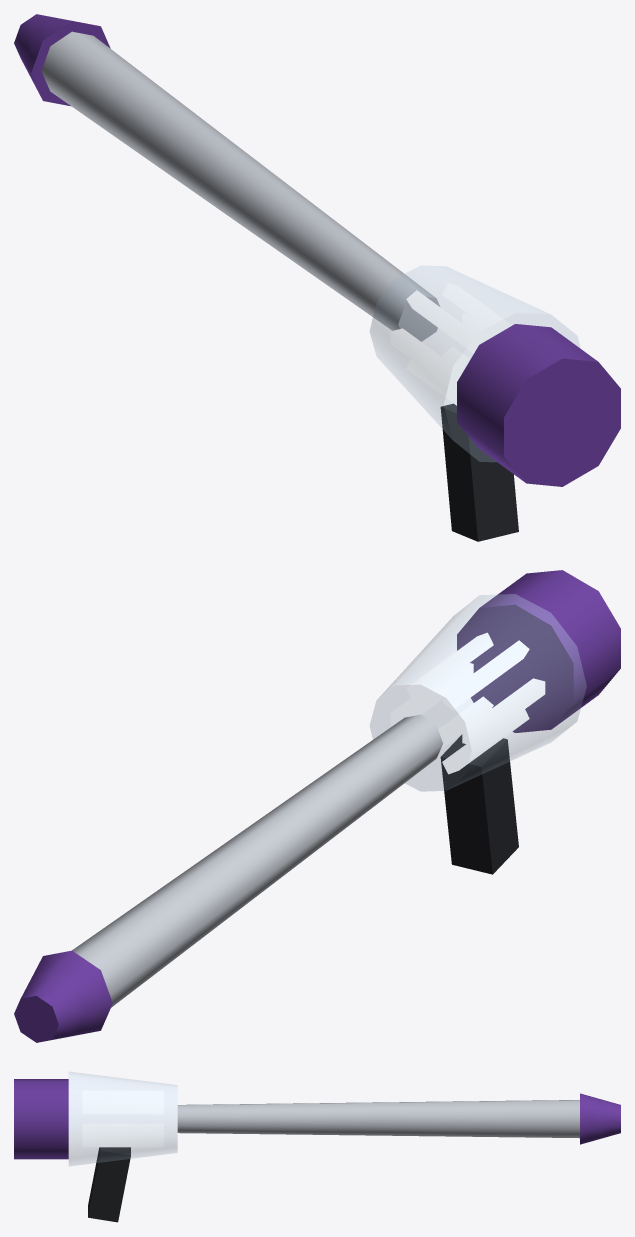
The model's file is tool_cyclone.glb.
3 renders of one model, top to bottom at view 1: azimuth 30°, elevation 25°; view 2: azimuth 150°, elevation 25°; view 3: azimuth 270°, elevation 25°, orthographic. The views are drawn at different scales.
Parts seen in each view (by area): view 1: _MeshInstance3D_1188, _MeshInstance3D_1180, _MeshInstance3D_1181, _MeshInstance3D_1179, _MeshInstance3D_1189, _MeshInstance3D_1185, _MeshInstance3D_1184, _MeshInstance3D_1183; view 2: _MeshInstance3D_1181, _MeshInstance3D_1188, _MeshInstance3D_1180, _MeshInstance3D_1179, _MeshInstance3D_1189, _MeshInstance3D_1185, _MeshInstance3D_1184, _MeshInstance3D_1183, _MeshInstance3D_1182, _MeshInstance3D_1186, _MeshInstance3D_1187; view 3: _MeshInstance3D_1188, _MeshInstance3D_1181, _MeshInstance3D_1180, _MeshInstance3D_1179, _MeshInstance3D_1189, _MeshInstance3D_1182, _MeshInstance3D_1183, _MeshInstance3D_1184, _MeshInstance3D_1187, _MeshInstance3D_1186, _MeshInstance3D_1185.
Part boxes in pixels (bbox=[...]): _MeshInstance3D_1188: bbox=[41, 31, 440, 341]; _MeshInstance3D_1180: bbox=[457, 324, 620, 486]; _MeshInstance3D_1181: bbox=[370, 265, 580, 461]; _MeshInstance3D_1179: bbox=[440, 403, 518, 541]; _MeshInstance3D_1189: bbox=[14, 14, 110, 106]; _MeshInstance3D_1185: bbox=[390, 328, 462, 392]; _MeshInstance3D_1184: bbox=[406, 290, 485, 353]; _MeshInstance3D_1183: bbox=[442, 282, 511, 334]; _MeshInstance3D_1181: bbox=[370, 594, 586, 791]; _MeshInstance3D_1188: bbox=[72, 714, 443, 1007]; _MeshInstance3D_1180: bbox=[457, 570, 620, 732]; _MeshInstance3D_1179: bbox=[440, 734, 518, 874]; _MeshInstance3D_1189: bbox=[14, 950, 112, 1042]; _MeshInstance3D_1185: bbox=[462, 678, 545, 745]; _MeshInstance3D_1184: bbox=[442, 640, 529, 710]; _MeshInstance3D_1183: bbox=[406, 632, 493, 700]; _MeshInstance3D_1182: bbox=[390, 663, 473, 725]; _MeshInstance3D_1186: bbox=[442, 709, 529, 774]; _MeshInstance3D_1187: bbox=[438, 696, 493, 748]; _MeshInstance3D_1188: bbox=[177, 1100, 579, 1138]; _MeshInstance3D_1181: bbox=[69, 1072, 177, 1165]; _MeshInstance3D_1180: bbox=[14, 1079, 68, 1159]; _MeshInstance3D_1179: bbox=[88, 1147, 130, 1222]; _MeshInstance3D_1189: bbox=[580, 1093, 620, 1144]; _MeshInstance3D_1182: bbox=[82, 1123, 163, 1134]; _MeshInstance3D_1183: bbox=[82, 1099, 163, 1110]; _MeshInstance3D_1184: bbox=[82, 1090, 163, 1099]; _MeshInstance3D_1187: bbox=[82, 1138, 163, 1147]; _MeshInstance3D_1186: bbox=[82, 1134, 163, 1138]; _MeshInstance3D_1185: bbox=[82, 1111, 163, 1114].
Bounding box in the file's own units: 0.14 × 0.2281 × 0.89.
